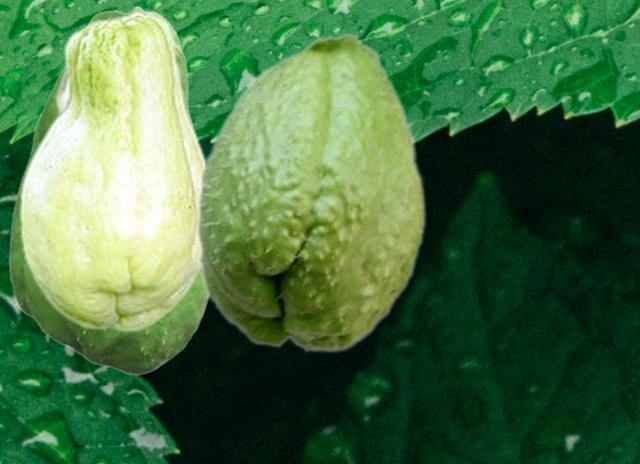sayote: (195, 31, 427, 353), (8, 5, 210, 374), (18, 10, 206, 332)
